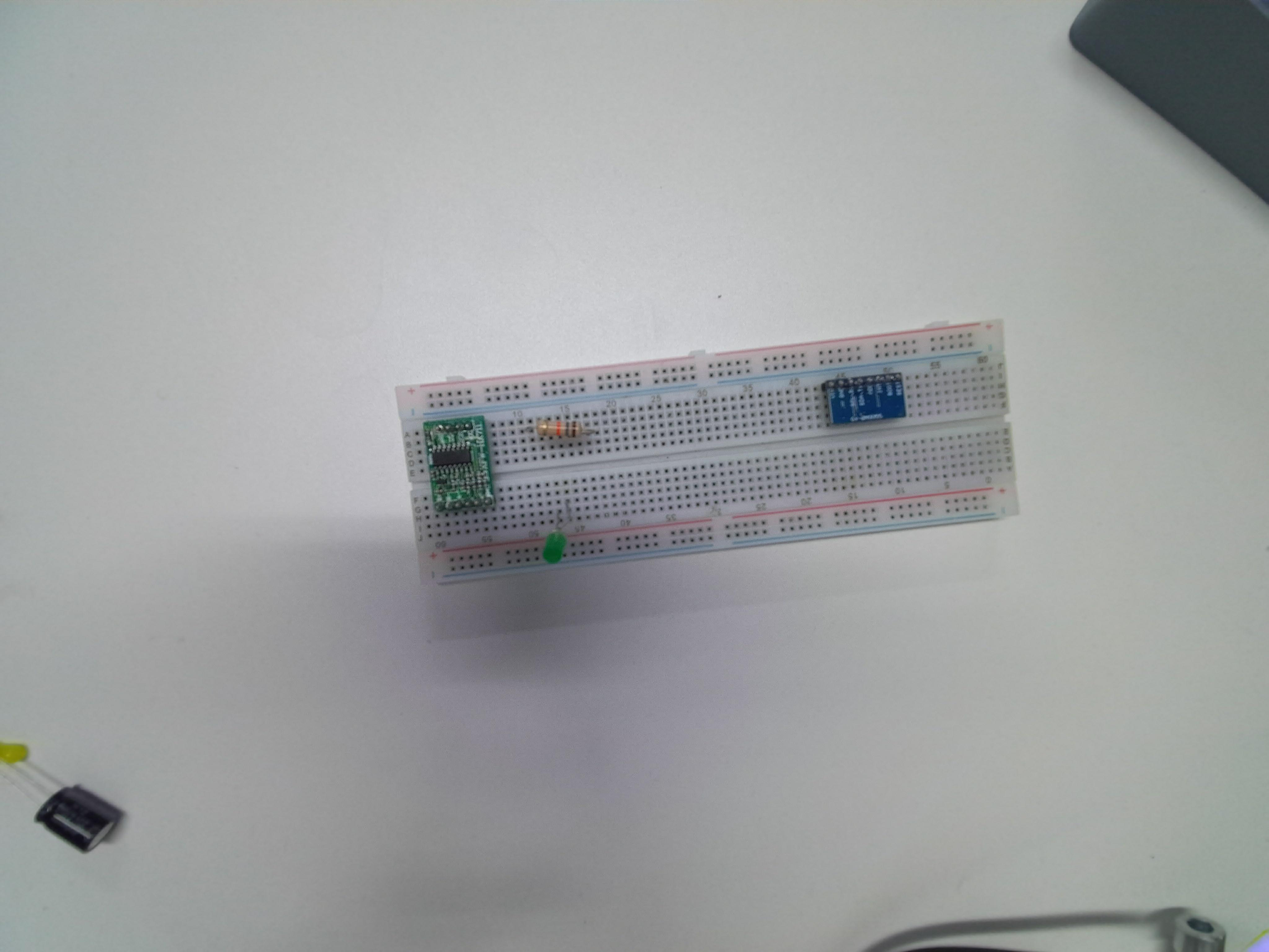base: (392, 320, 1024, 587)
blue-board: (821, 371, 907, 428)
capacitor: (28, 785, 127, 863)
green-board: (420, 415, 496, 516)
green-led: (539, 529, 567, 565)
resistor-big: (536, 419, 583, 440)
yellow-led: (0, 736, 33, 771)
